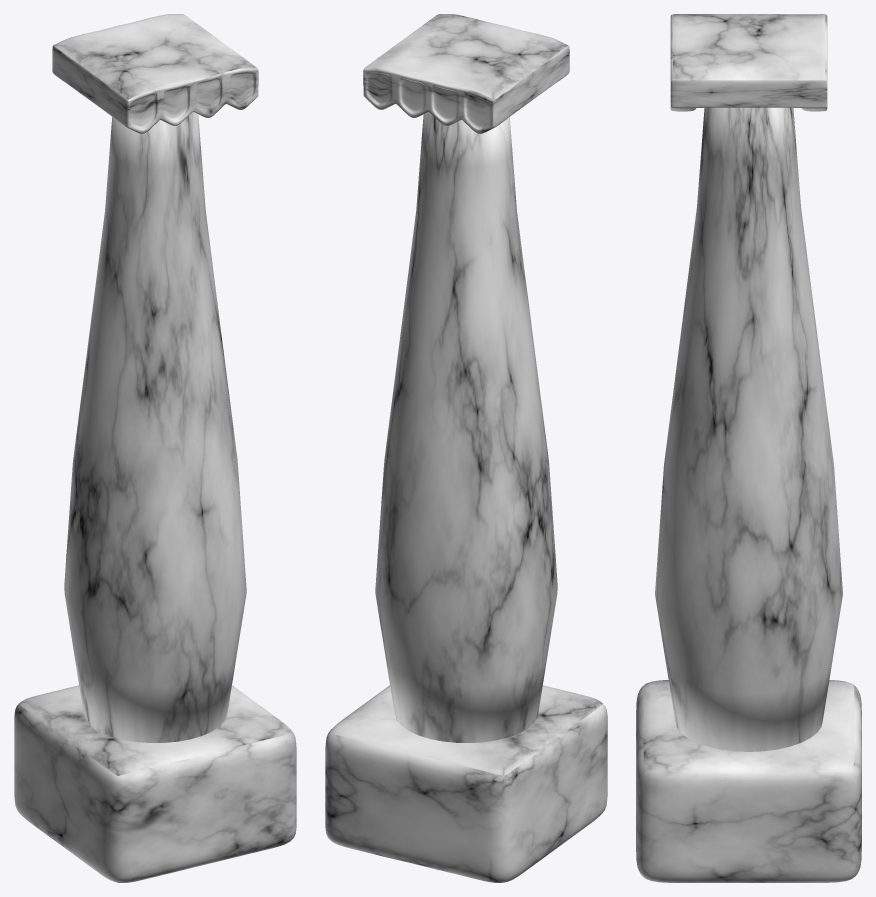
The model's file is pillar.glb.
The picture shows the model from 3 angles, left to right: view 1: azimuth 30°, elevation 25°; view 2: azimuth 150°, elevation 25°; view 3: azimuth 270°, elevation 25°; orthographic projection. The views are drawn at different scales.
Visible parts, largest first — view 1: Cube.003, Cube.006, Cube.005; view 2: Cube.003, Cube.006, Cube.005; view 3: Cube.003, Cube.006, Cube.005.
Part boxes in pixels (bbox=[...]): Cube.003: bbox=[64, 112, 246, 742]; Cube.006: bbox=[14, 685, 296, 882]; Cube.005: bbox=[52, 14, 258, 133]; Cube.003: bbox=[375, 112, 557, 742]; Cube.006: bbox=[325, 685, 607, 882]; Cube.005: bbox=[363, 14, 569, 133]; Cube.003: bbox=[655, 107, 842, 751]; Cube.006: bbox=[636, 680, 861, 882]; Cube.005: bbox=[670, 14, 827, 111].
Bounding box in the file's own units: 0.775 × 3.03 × 0.775.
Materials: 1 (1 with a texture image).
